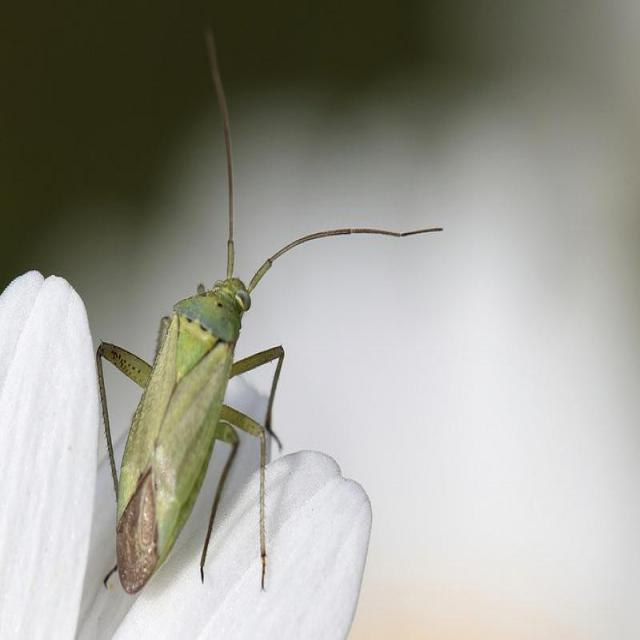Miridae-Adult-: (85, 14, 448, 596)
